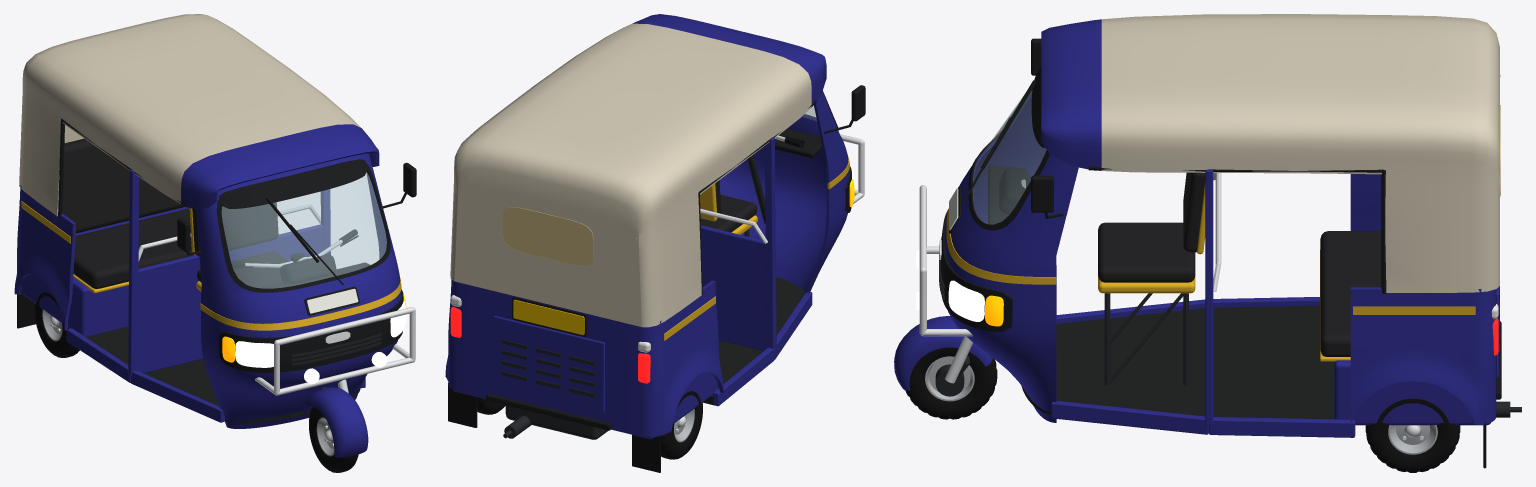
Rendered from bajaj_indigo.glb.
3 views of the same model, side by side, from view 1: azimuth 30°, elevation 25°; view 2: azimuth 150°, elevation 25°; view 3: azimuth 270°, elevation 25° (orthographic). The views are drawn at different scales.
Visible parts, largest first — view 1: Body, Steering, Wheel_F, Wheel_RL, Plate_Front; view 2: Body, Wheel_RL, Plate_Rear, Steering; view 3: Body, Wheel_RR, Wheel_F, Steering.
Part boxes in pixels (x1,y1,x2,y2): Body: (14, 14, 416, 428); Steering: (231, 229, 368, 457); Wheel_F: (309, 407, 358, 472); Wheel_RL: (34, 292, 79, 357); Plate_Front: (307, 288, 358, 313); Body: (445, 14, 865, 472); Wheel_RL: (661, 391, 702, 459); Plate_Rear: (513, 299, 584, 335); Steering: (747, 135, 804, 223); Body: (916, 14, 1521, 468); Wheel_RR: (1365, 398, 1460, 472); Wheel_F: (905, 347, 997, 419); Steering: (894, 151, 1045, 396).
Bounding box in the file's own units: 1.43 × 1.7 × 2.71.
